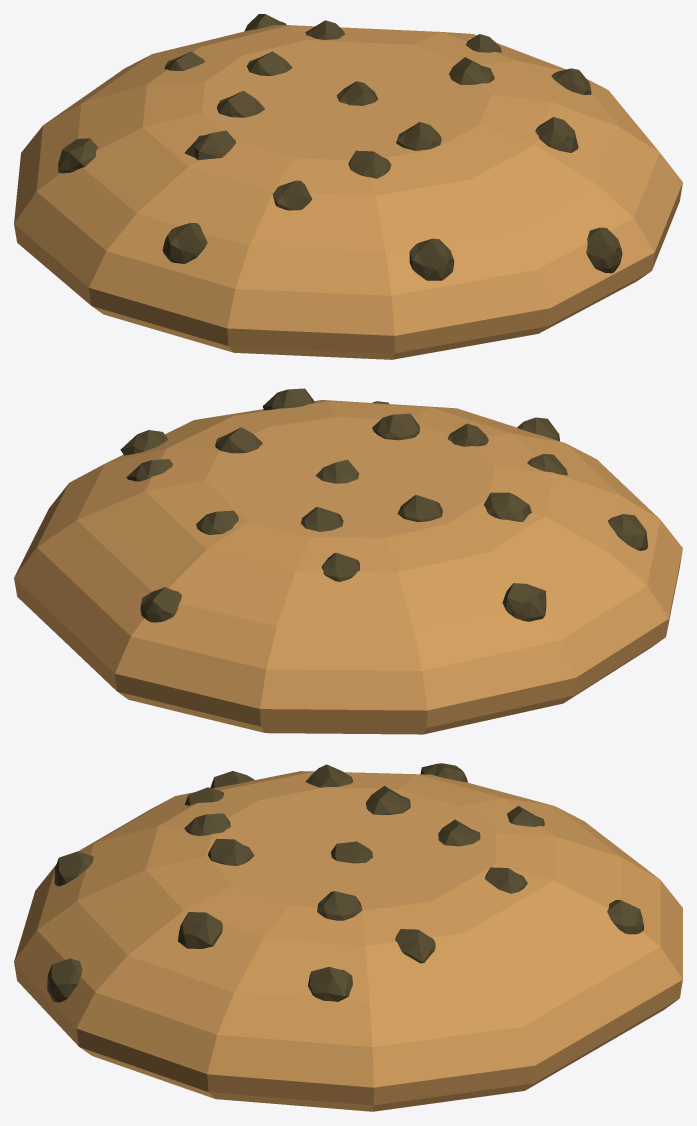
File: rawDarkCookie.fbx
The picture shows the model from 3 angles, top to bottom: view 1: azimuth 30°, elevation 25°; view 2: azimuth 150°, elevation 25°; view 3: azimuth 270°, elevation 25°; orthographic projection.
Visible parts, largest first — view 1: Icosphere; view 2: Icosphere; view 3: Icosphere.
Boxes of the visible parts, x1,y1,x2,y2 form: Icosphere: (14,14,682,359); Icosphere: (14,388,682,734); Icosphere: (14,763,682,1111).
Bounding box in the file's own units: 58.12 × 14.4 × 57.55.
